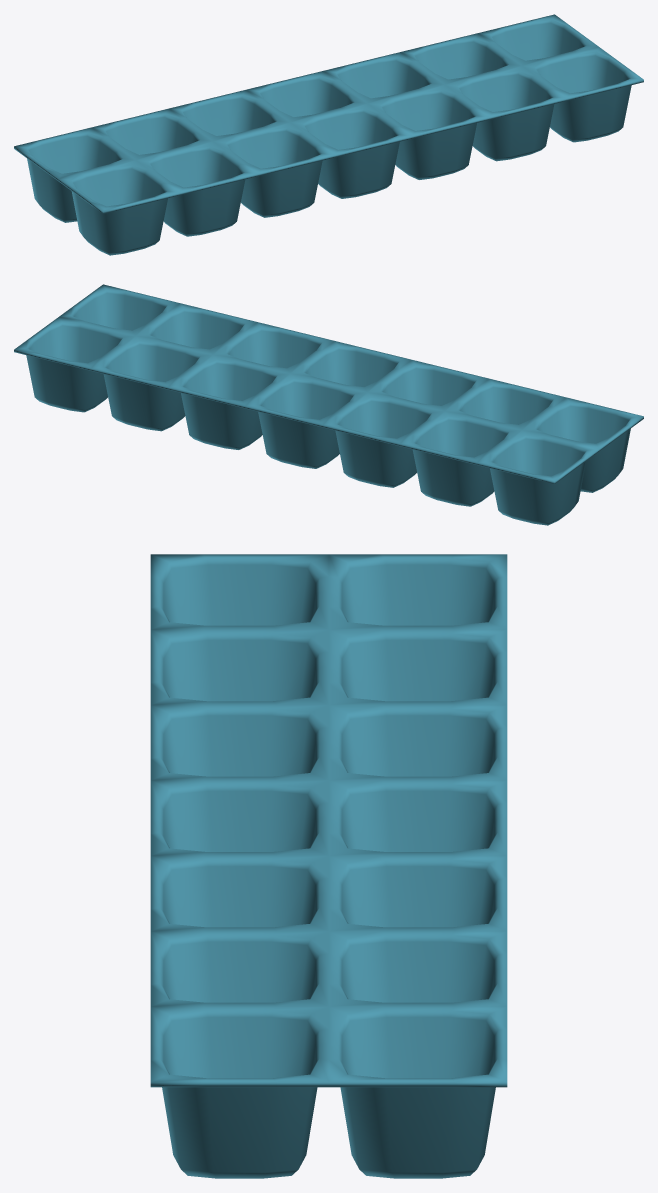
3 views of the same model, one above another, from view 1: azimuth 30°, elevation 25°; view 2: azimuth 150°, elevation 25°; view 3: azimuth 270°, elevation 25° (orthographic). The views are drawn at different scales.
Visible parts, largest first — view 1: One piece fourteen open mould wells and shared deck; view 2: One piece fourteen open mould wells and shared deck; view 3: One piece fourteen open mould wells and shared deck.
Boxes of the visible parts, x1,y1,x2,y2 form: One piece fourteen open mould wells and shared deck: (14, 14, 643, 255); One piece fourteen open mould wells and shared deck: (14, 284, 643, 525); One piece fourteen open mould wells and shared deck: (150, 554, 507, 1178).
Bounding box in the file's own units: 0.336 × 0.0325 × 0.096.
